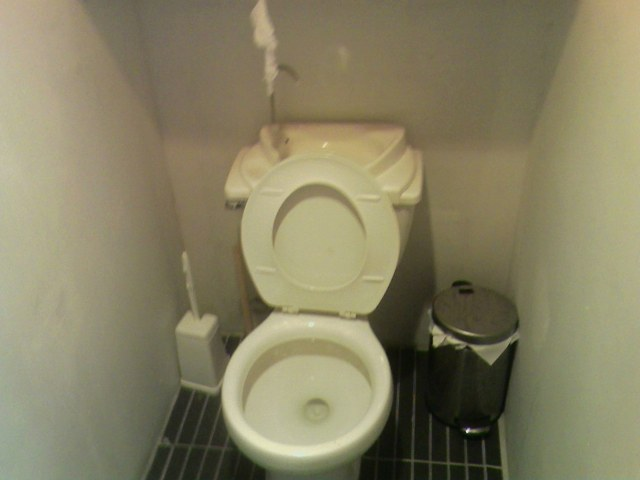toilet_paper: (247, 0, 280, 96)
